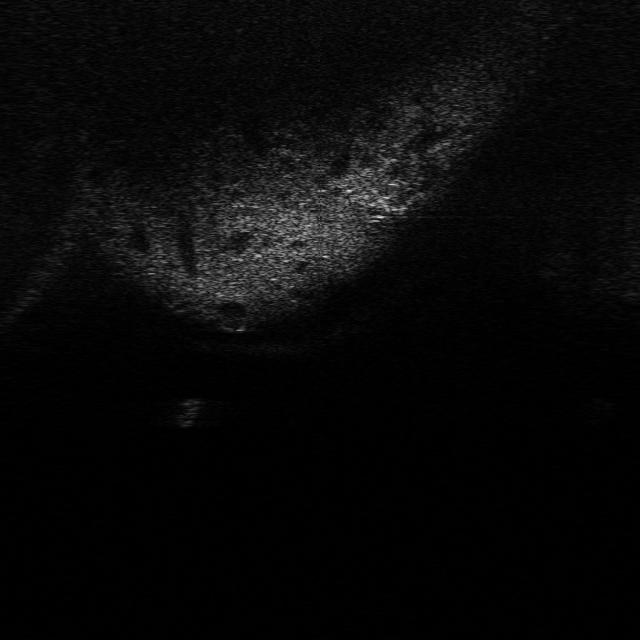cylinder: (174, 395, 207, 427)
